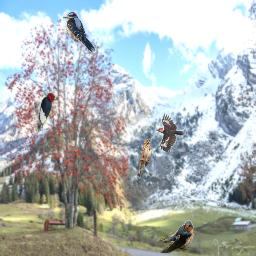Sparrow: (137, 138, 152, 178)
Swallow: (154, 220, 194, 253)
Woodpecker: (63, 12, 95, 52), (155, 113, 186, 152), (34, 93, 58, 133)
